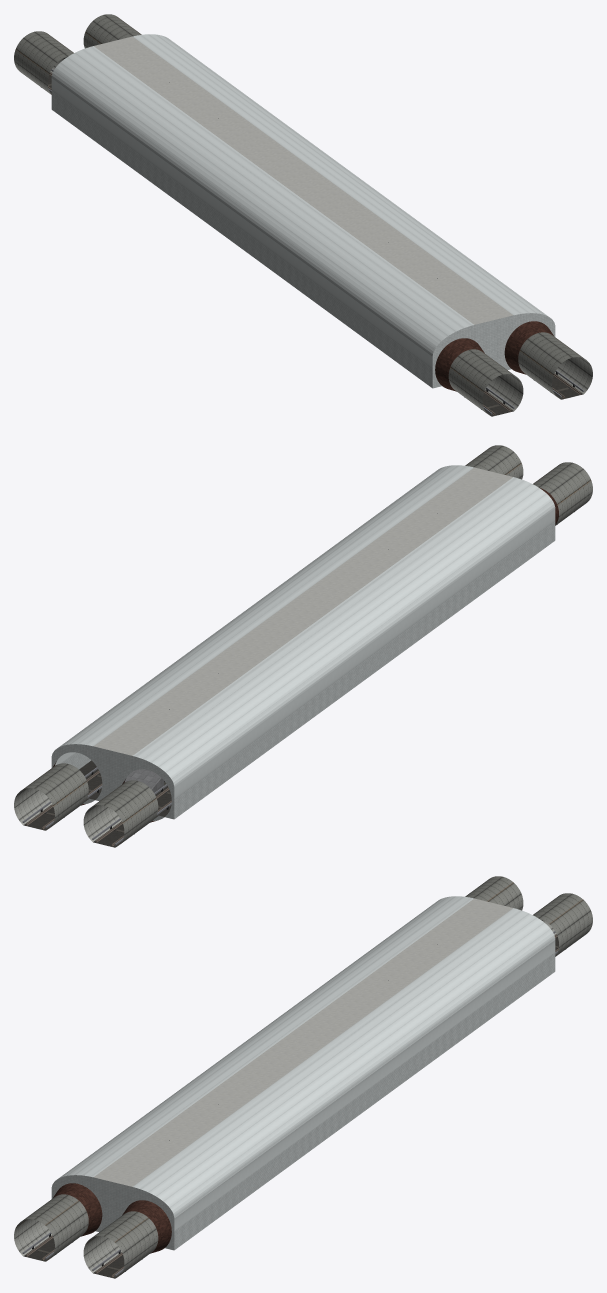
File: station_kelvinbridge.glb
The picture shows the model from 3 angles, top to bottom: view 1: azimuth 30°, elevation 25°; view 2: azimuth 150°, elevation 25°; view 3: azimuth 330°, elevation 25°; orthographic projection.
Visible parts, largest first — view 1: hall_shell, end_walls; view 2: hall_shell, end_walls; view 3: hall_shell, end_walls.
Part boxes in pixels (bbox=[...]): hall_shell: bbox=[41, 34, 584, 415]; end_walls: bbox=[14, 14, 592, 416]; hall_shell: bbox=[22, 465, 557, 846]; end_walls: bbox=[14, 445, 592, 847]; hall_shell: bbox=[22, 896, 565, 1277]; end_walls: bbox=[14, 876, 592, 1278].
Bounding box in the file's own units: 10.04 × 4.8 × 66.4.
Materials: 30 (21 with a texture image).
